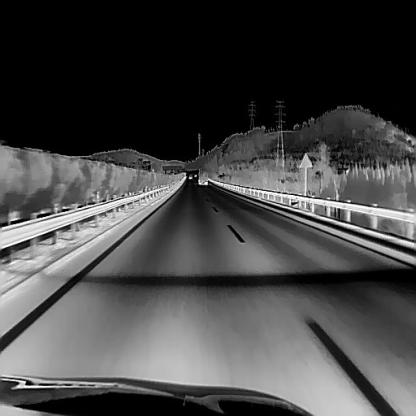truck: (197, 168, 207, 184)
